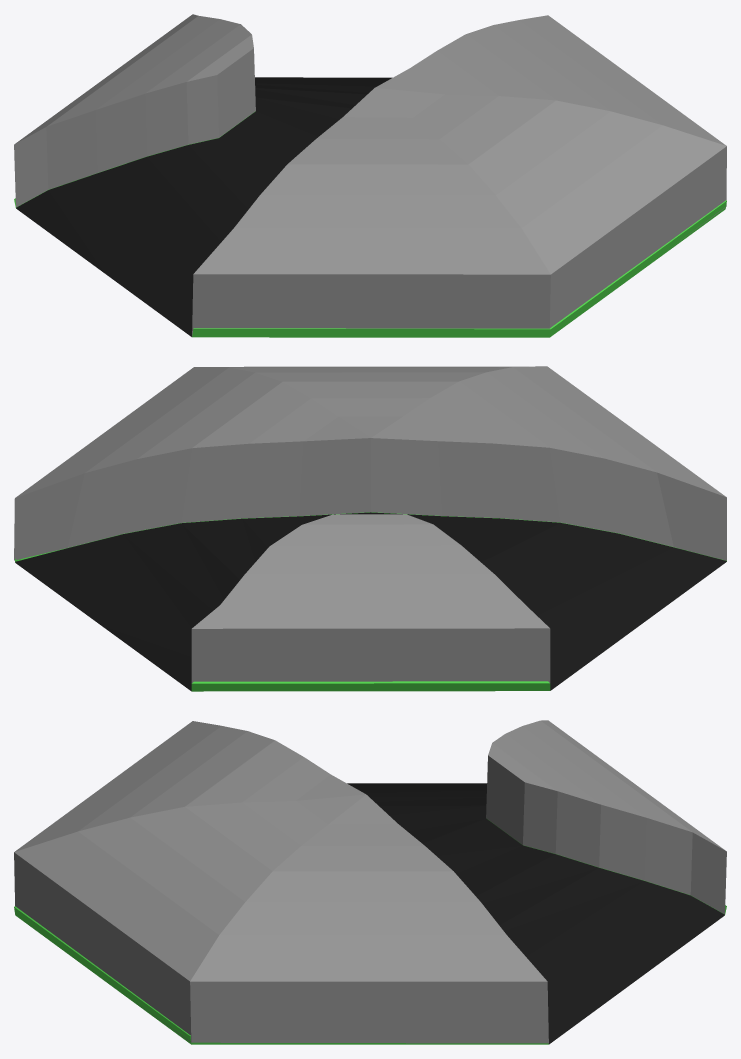
The model's file is HardTurn.FBX.
3 renders of one model, top to bottom at view 1: azimuth 30°, elevation 25°; view 2: azimuth 150°, elevation 25°; view 3: azimuth 270°, elevation 25°, orthographic.
Parts seen in each view (by area): view 1: BaseColidBox02, RoadColl, BaseTiles01; view 2: BaseColidBox02, RoadColl, BaseTiles01; view 3: BaseColidBox02, RoadColl, BaseTiles01.
Part boxes in pixels (<box>): BaseColidBox02: <box>14,14,726,335</box>; RoadColl: <box>16,77,392,336</box>; BaseTiles01: <box>14,111,726,337</box>; BaseColidBox02: <box>14,366,726,682</box>; RoadColl: <box>15,512,726,690</box>; BaseTiles01: <box>15,512,726,691</box>; BaseColidBox02: <box>14,720,726,1043</box>; RoadColl: <box>347,783,724,1043</box>; BaseTiles01: <box>14,818,726,1044</box>.
Bounding box in the file's own units: 35.05 × 7.63 × 40.52.
